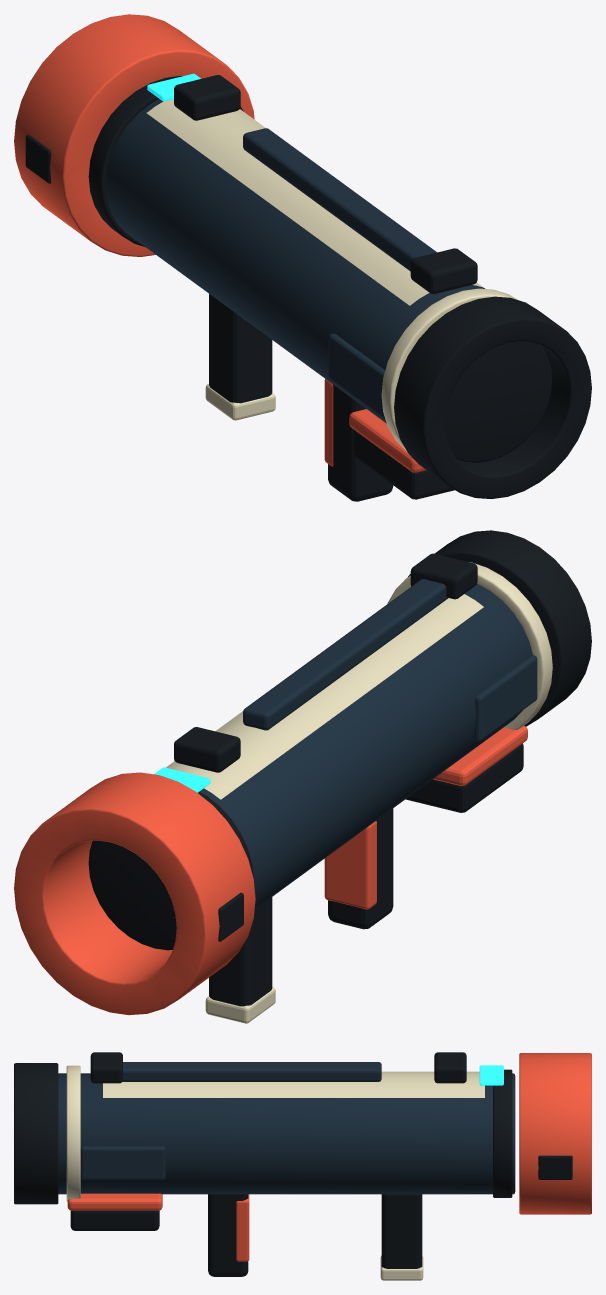
File: dock_thumper_launcher_a.glb
3 views of the same model, one above another, from view 1: azimuth 30°, elevation 25°; view 2: azimuth 150°, elevation 25°; view 3: azimuth 270°, elevation 25° (orthographic). The views are drawn at different scales.
Parts seen in each view (by area): view 1: TubeBody, CoralMuzzleCollar, RearGraphiteCollar, IvoryCrown, RearRecess, UpperRail, SupportGrip, DominantGrip, FrontGraphiteBand, RearIvoryBand, RearSidePanel_-1, ShoulderPad (+7 smaller); view 2: CoralMuzzleCollar, TubeBody, IvoryCrown, RearGraphiteCollar, UpperRail, MuzzleRecess, SupportGrip, RearIvoryBand, GripCoralInset, RearSidePanel_-1, ShoulderPad, DominantGrip (+6 smaller); view 3: TubeBody, CoralMuzzleCollar, IvoryCrown, RearGraphiteCollar, UpperRail, SupportGrip, RearSidePanel_1, DominantGrip, FrontGraphiteBand, RearIvoryBand, ShoulderPad, ShoulderCoralTrim (+6 smaller).
Part boxes in pixels (x1=…): TubeBody: x1=105, y1=99, x2=484, y2=423; CoralMuzzleCollar: x1=14, y1=14, x2=254, y2=256; RearGraphiteCollar: x1=394, y1=296, x2=591, y2=498; IvoryCrown: x1=146, y1=99, x2=483, y2=305; RearRecess: x1=444, y1=341, x2=552, y2=462; UpperRail: x1=243, y1=128, x2=436, y2=271; SupportGrip: x1=209, y1=294, x2=272, y2=403; DominantGrip: x1=328, y1=384, x2=393, y2=501; FrontGraphiteBand: x1=88, y1=75, x2=243, y2=247; RearIvoryBand: x1=381, y1=288, x2=517, y2=451; RearSidePanel_-1: x1=328, y1=333, x2=385, y2=418; ShoulderPad: x1=353, y1=430, x2=454, y2=499; CoralMuzzleCollar: x1=14, y1=772, x2=255, y2=1015; TubeBody: x1=199, y1=583, x2=532, y2=909; IvoryCrown: x1=166, y1=594, x2=483, y2=799; RearGraphiteCollar: x1=408, y1=530, x2=591, y2=726; UpperRail: x1=243, y1=579, x2=448, y2=730; MuzzleRecess: x1=88, y1=840, x2=176, y2=950; SupportGrip: x1=209, y1=897, x2=272, y2=1006; RearIvoryBand: x1=387, y1=562, x2=552, y2=729; GripCoralInset: x1=324, y1=821, x2=376, y2=909; RearSidePanel_-1: x1=473, y1=655, x2=537, y2=741; ShoulderPad: x1=405, y1=743, x2=523, y2=812; DominantGrip: x1=328, y1=808, x2=393, y2=929; TubeBody: x1=58, y1=1073, x2=515, y2=1194; CoralMuzzleCollar: x1=519, y1=1053, x2=591, y2=1214; IvoryCrown: x1=103, y1=1071, x2=484, y2=1097; RearGraphiteCollar: x1=14, y1=1063, x2=58, y2=1204; UpperRail: x1=122, y1=1062, x2=381, y2=1081; SupportGrip: x1=381, y1=1194, x2=422, y2=1268; RearSidePanel_1: x1=80, y1=1146, x2=165, y2=1179; DominantGrip: x1=208, y1=1194, x2=248, y2=1276; FrontGraphiteBand: x1=493, y1=1069, x2=512, y2=1197; RearIvoryBand: x1=66, y1=1065, x2=80, y2=1201; ShoulderPad: x1=70, y1=1210, x2=159, y2=1230; ShoulderCoralTrim: x1=67, y1=1193, x2=162, y2=1210.
Size of the model in its own units: 0.406 by 0.585 by 1.43.
